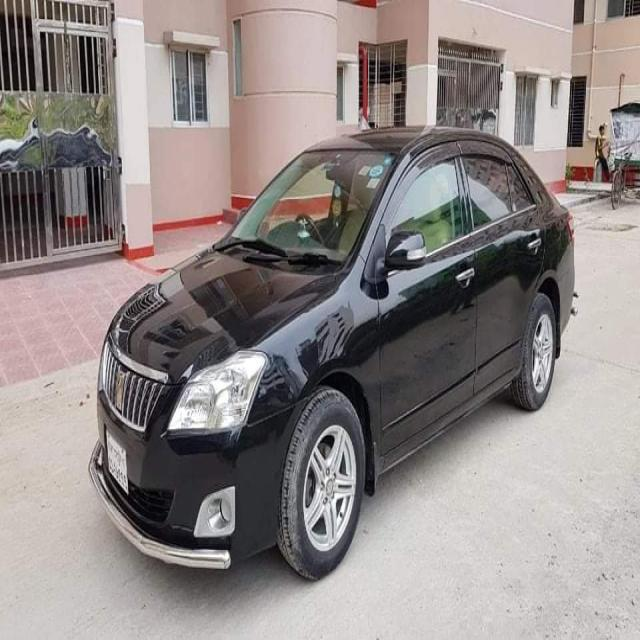black: (90, 118, 640, 519)
